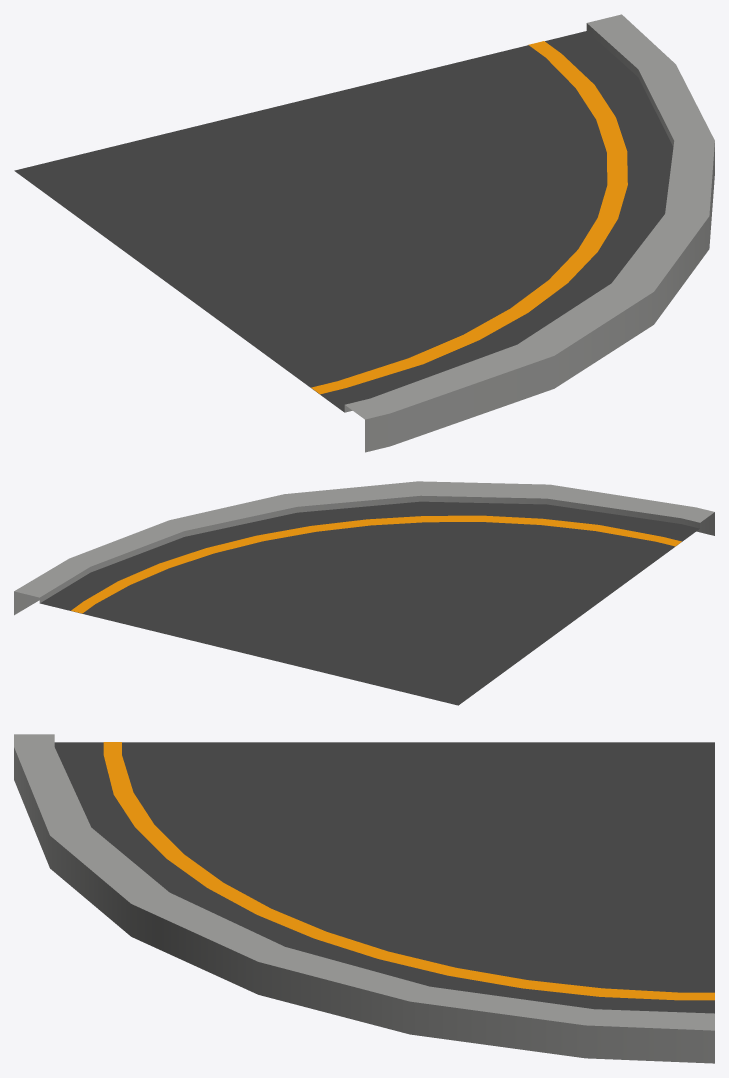
The model's file is ParkingRoad_A_2.fbx.
The picture shows the model from 3 angles, top to bottom: view 1: azimuth 30°, elevation 25°; view 2: azimuth 150°, elevation 25°; view 3: azimuth 270°, elevation 25°; orthographic projection. The views are drawn at different scales.
Parts seen in each view (by area): view 1: ParkingRoad_A_2; view 2: ParkingRoad_A_2; view 3: ParkingRoad_A_2.
Part boxes in pixels (left/top/right/bottom): ParkingRoad_A_2: left=14, top=14, right=714, bottom=452; ParkingRoad_A_2: left=14, top=481, right=714, bottom=705; ParkingRoad_A_2: left=14, top=734, right=714, bottom=1063.
Size of the model in its own units: 800 by 41.48 by 800.
